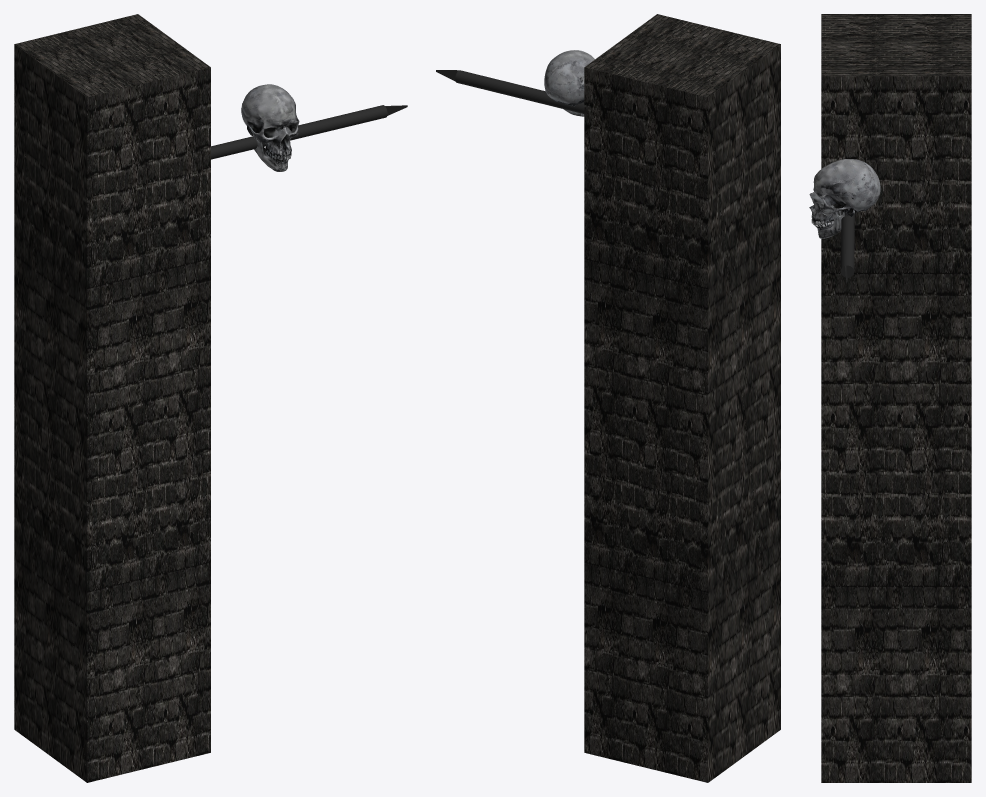
File: Building.glb
3 renders of one model, left to right at view 1: azimuth 30°, elevation 25°; view 2: azimuth 150°, elevation 25°; view 3: azimuth 270°, elevation 25°, orthographic. The views are drawn at different scales.
Parts seen in each view (by area): view 1: Building; view 2: Building; view 3: Building.
Part boxes in pixels (left/top/right/bottom): Building: left=14, top=14, right=407, bottom=782; Building: left=436, top=14, right=780, bottom=782; Building: left=809, top=14, right=971, bottom=782.
Size of the model in its own units: 34.54 by 68.02 by 14.15.
3 materials, 2 textured.
